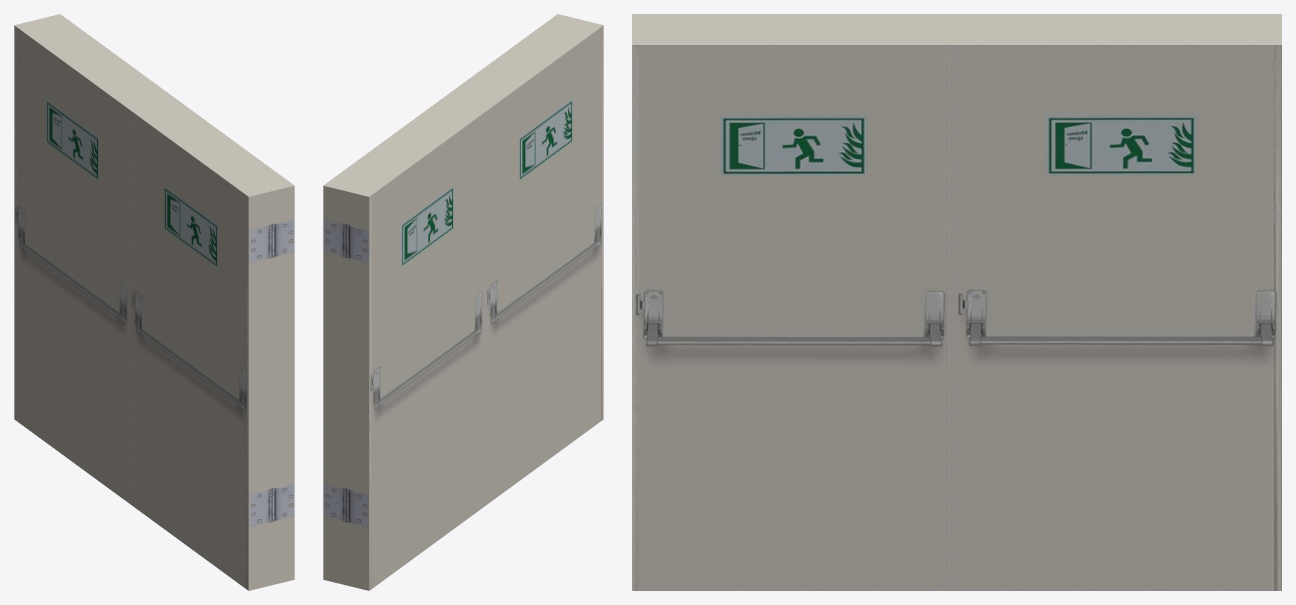
File: Puerta_DC_VC.fbx
3 renders of one model, left to right at view 1: azimuth 30°, elevation 25°; view 2: azimuth 150°, elevation 25°; view 3: azimuth 270°, elevation 25°, orthographic. The views are drawn at different scales.
Visible parts, largest first — view 1: Puerta2_DC_VC, Puerta1_DC_VC; view 2: Puerta1_DC_VC, Puerta2_DC_VC; view 3: Puerta1_DC_VC, Puerta2_DC_VC.
Part boxes in pixels (box(x1,y1,x2,y2)): Puerta2_DC_VC: box(131, 100, 294, 590); Puerta1_DC_VC: box(14, 14, 177, 504); Puerta1_DC_VC: box(323, 100, 486, 590); Puerta2_DC_VC: box(441, 14, 603, 504); Puerta1_DC_VC: box(957, 14, 1281, 590); Puerta2_DC_VC: box(632, 14, 956, 590).
Bounding box in the file's own units: 49.85 × 407 × 439.
Materials: 2 (2 with a texture image).
